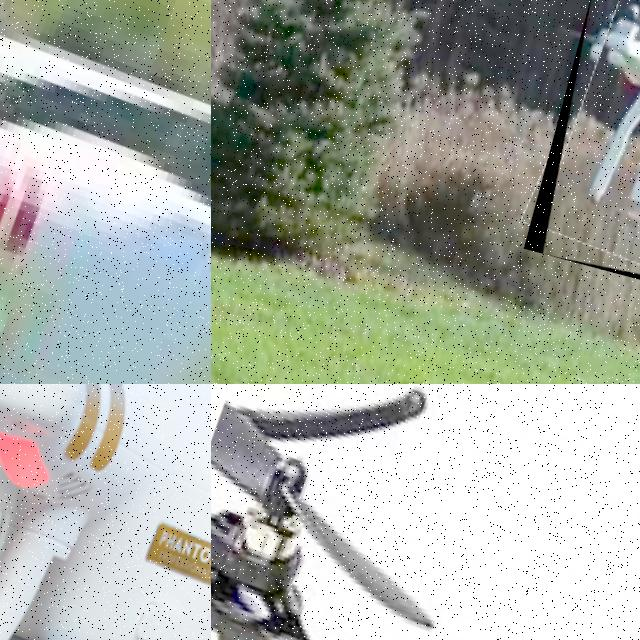drone: (211, 384, 640, 640), (0, 0, 211, 384), (0, 384, 211, 640), (523, 0, 640, 308)
